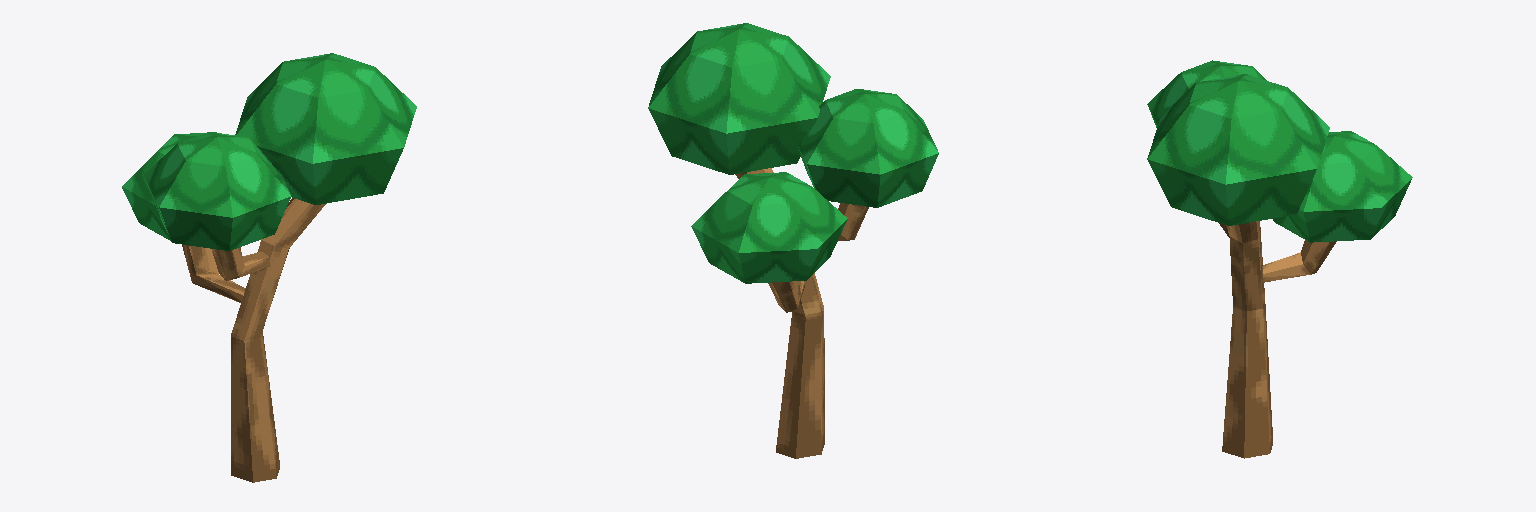
3 views of the same model, side by side, from view 1: azimuth 30°, elevation 25°; view 2: azimuth 150°, elevation 25°; view 3: azimuth 270°, elevation 25° (orthographic).
Parts seen in each view (by area): view 1: Mesh_0001; view 2: Mesh_0001; view 3: Mesh_0001.
Part boxes in pixels (left/top/right/bottom): Mesh_0001: left=122, top=53, right=416, bottom=482; Mesh_0001: left=648, top=23, right=938, bottom=458; Mesh_0001: left=1147, top=60, right=1412, bottom=458.
Bounding box in the file's own units: 1.95 × 2.77 × 1.67.
Materials: 1 (1 with a texture image).